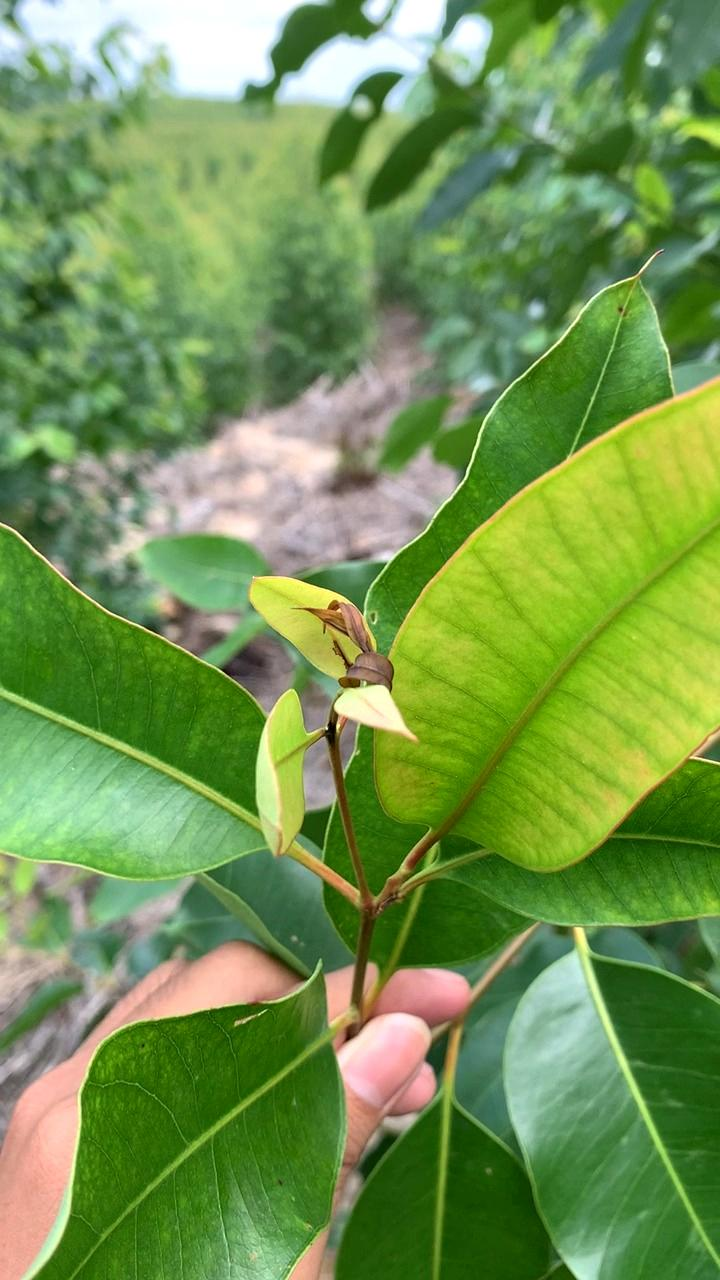Helopeltis-Withered Sprout: (297, 593, 396, 693)
